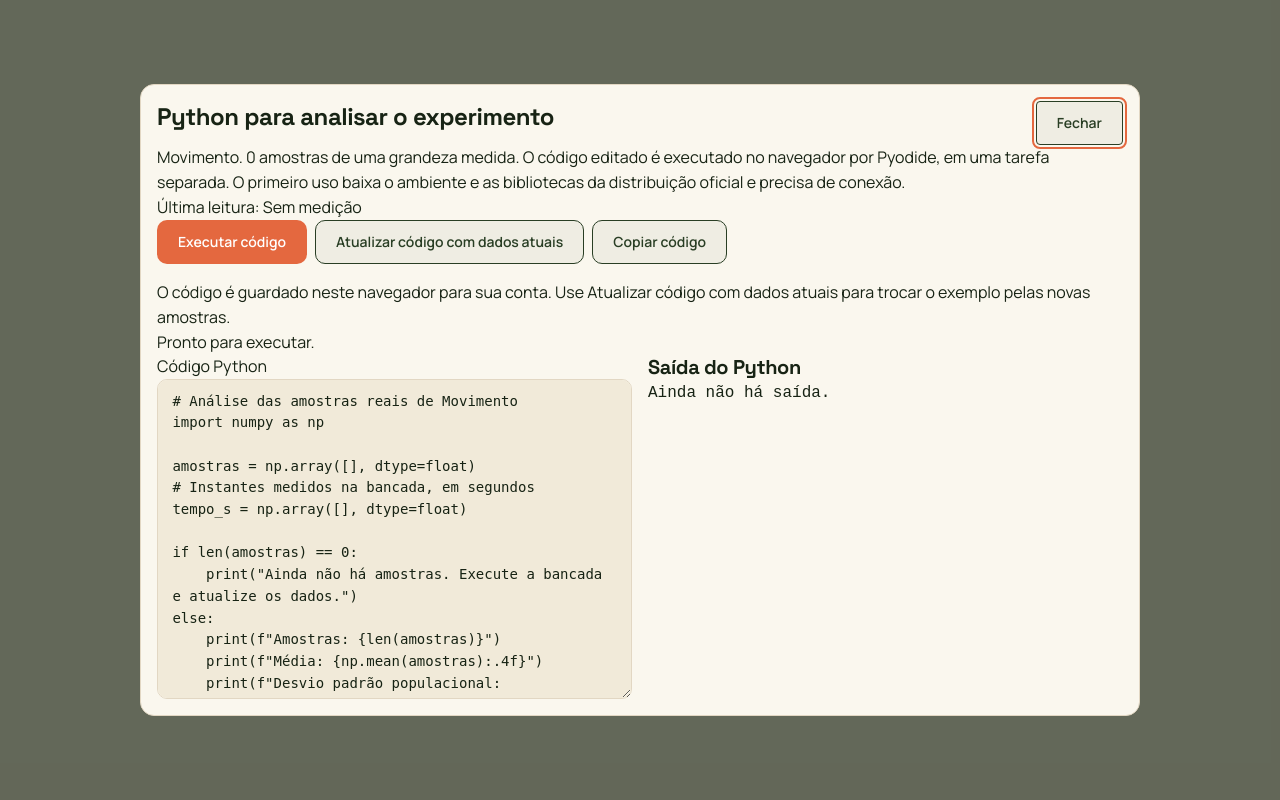
retorno atrasado do worker interrompido não anuncia conclusão
Click the button "Executar código". click: (232, 242)
box: [157,220,307,264]
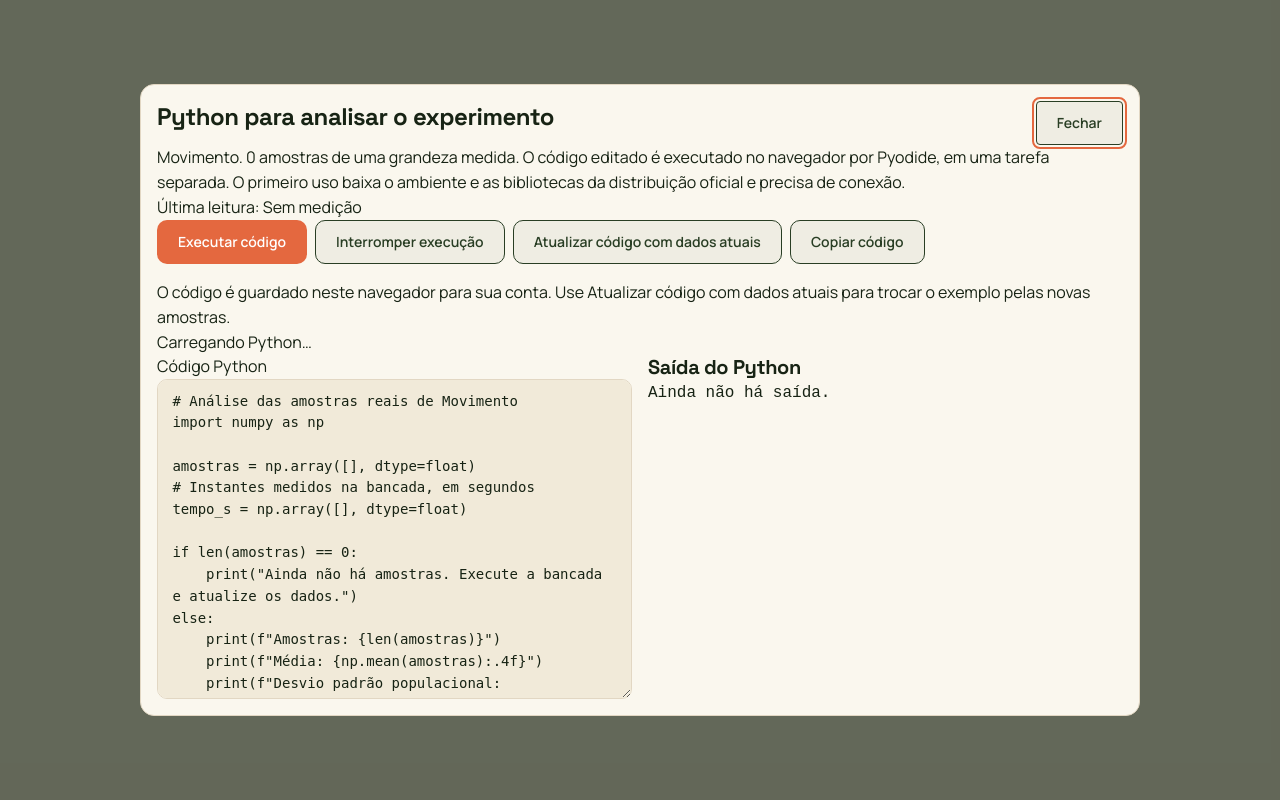
Click the button "Interromper execução". click: (410, 242)
box: [315,220,505,264]
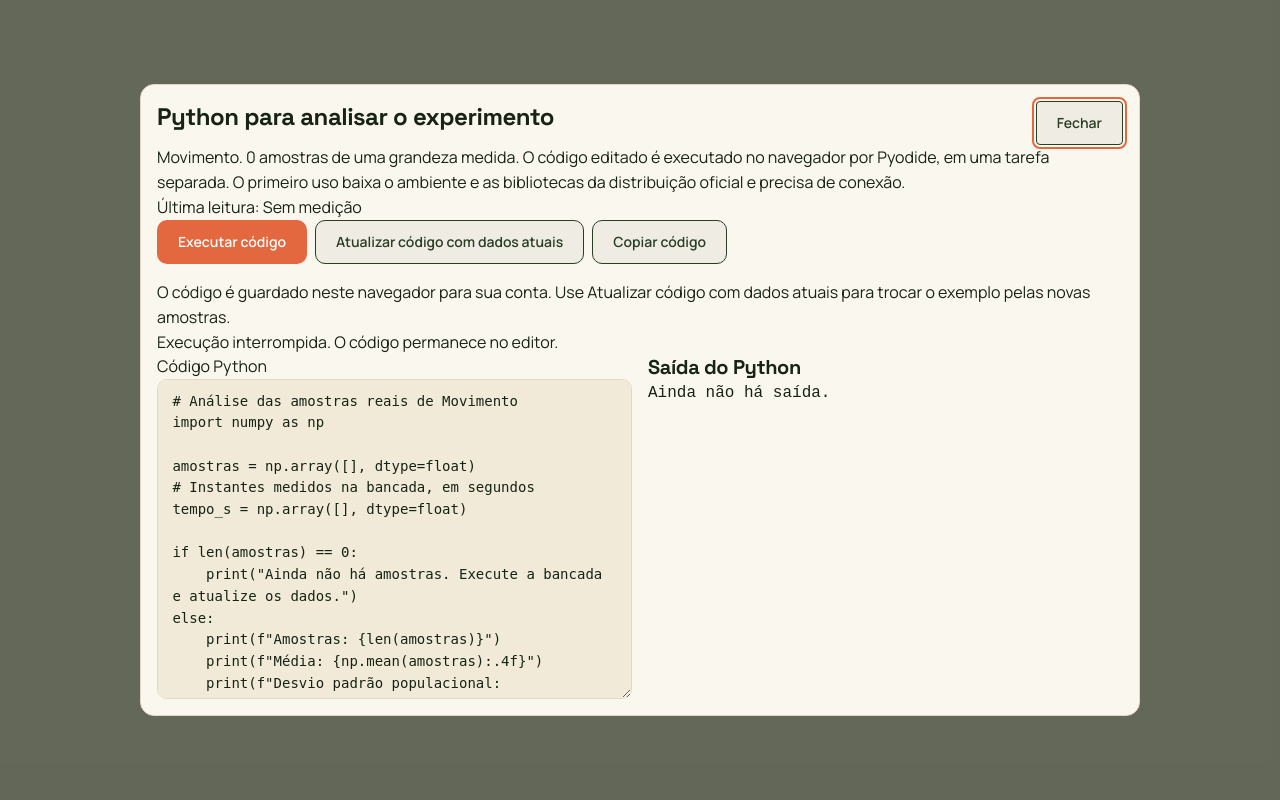
Result: the message shows "Execução interrompida" at [157,331,558,353]
